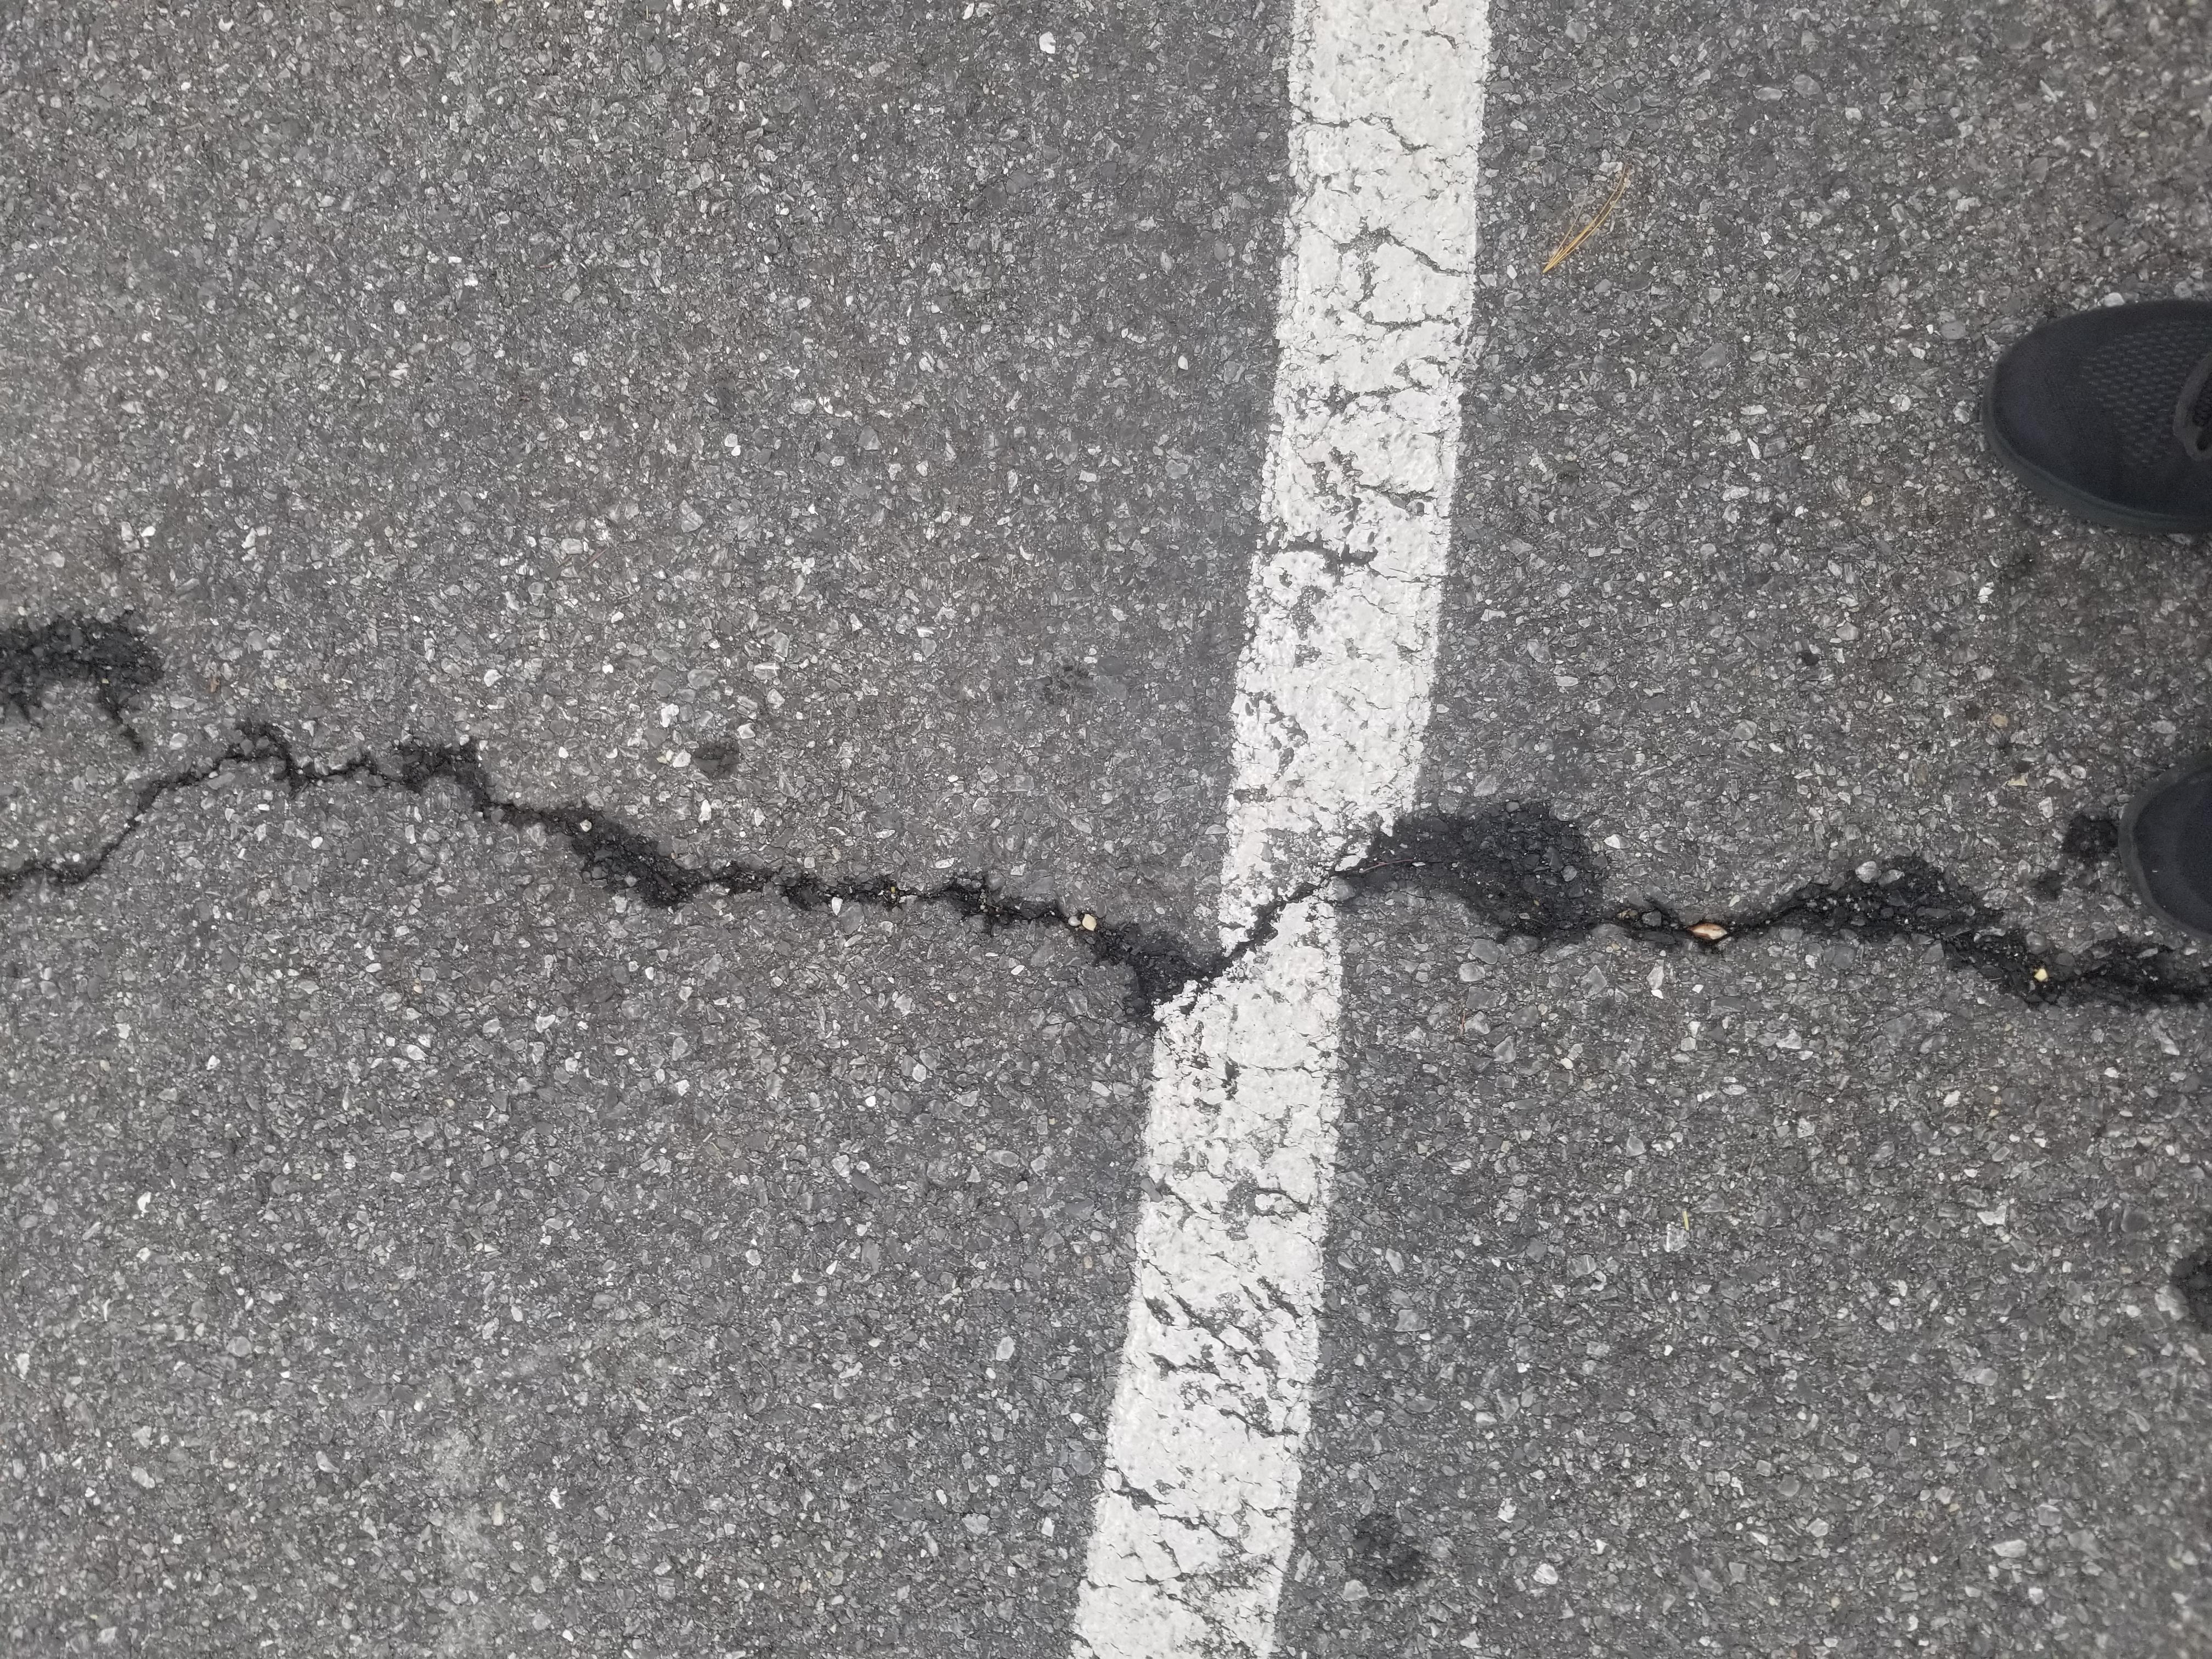crack: (700, 96, 1399, 1659)
